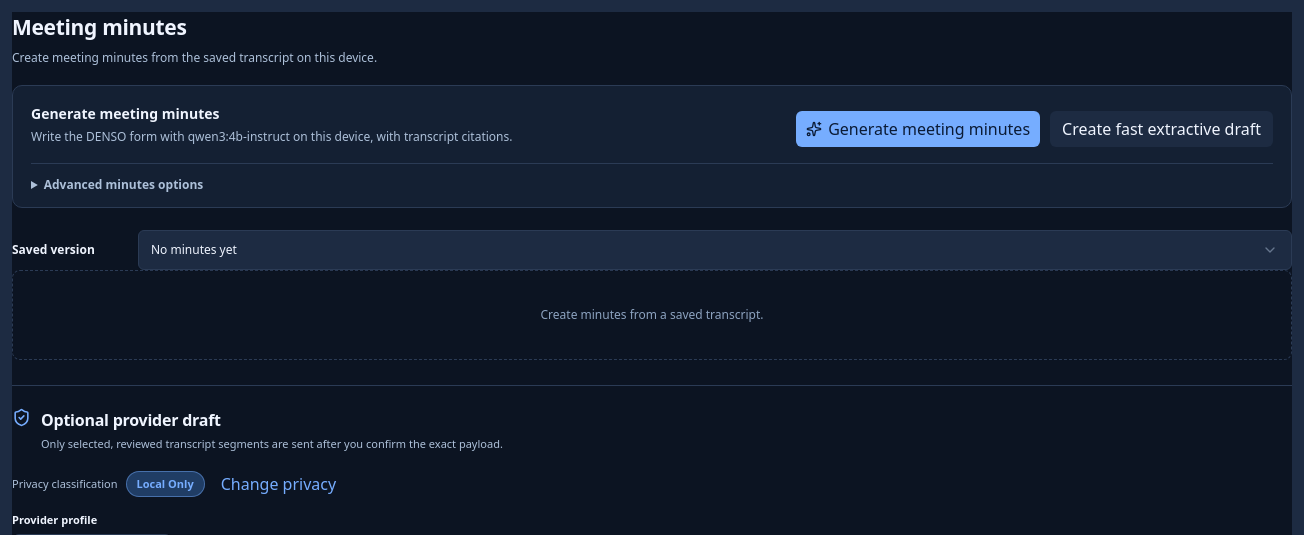
Test: reports extractive failures accurately even when local AI is installed
This screenshot has width=1304, height=535.
Click the button "Create fast extractive draft".
click(1162, 129)  # box [1050, 111, 1273, 147]
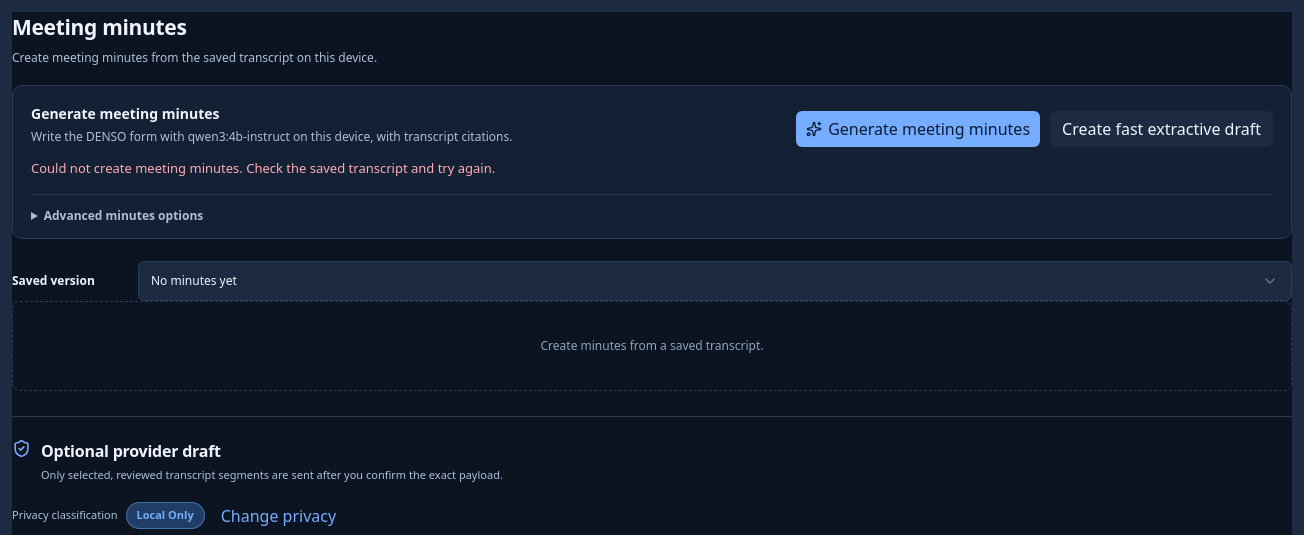
Expected: the text "Could not create meeting minutes. Check the saved transcript and try again." is shown, [31, 159, 495, 177]
